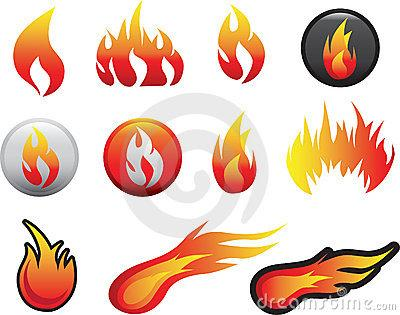fire: (287, 122, 396, 182)
